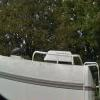Boat: (2, 48, 96, 97)
